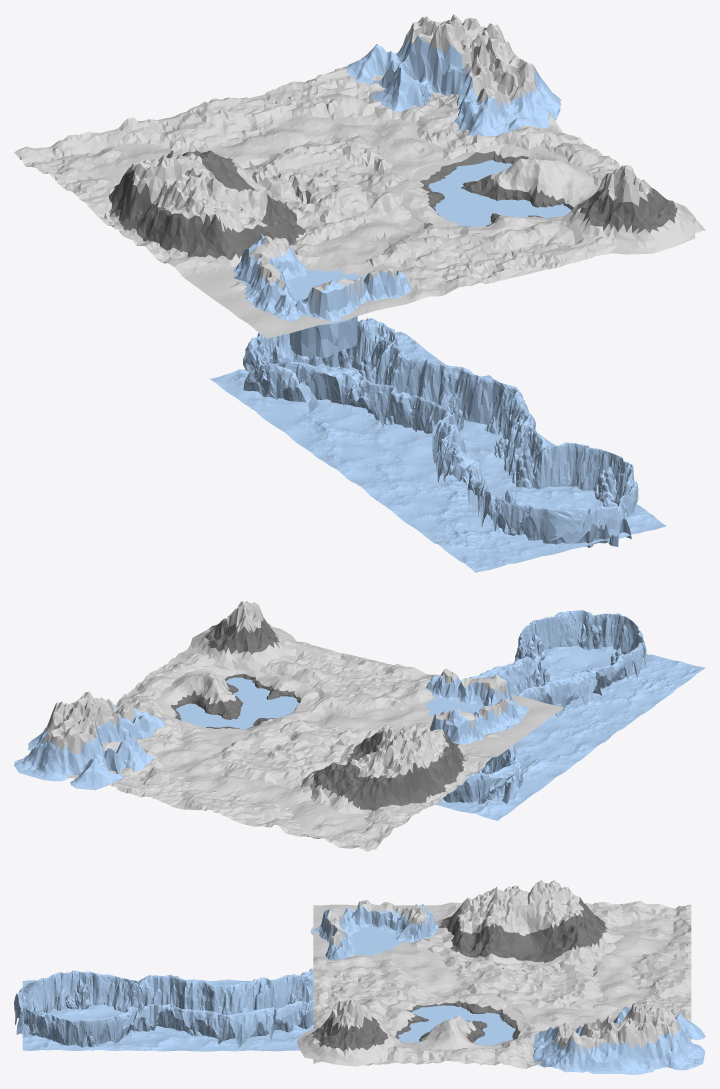
The model's file is Land.fbx.
The picture shows the model from 3 angles, top to bottom: view 1: azimuth 30°, elevation 25°; view 2: azimuth 150°, elevation 25°; view 3: azimuth 270°, elevation 25°; orthographic projection. The views are drawn at different scales.
Visible parts, largest first — view 1: Landscape, IceCave, IceLandscape, IcePlatform01; view 2: Landscape, IceLandscape, IceCave; view 3: Landscape, IceCave, IceLandscape, IcePlatform.
Boxes of the visible parts, x1,y1,x2,y2 form: Landscape: (14,14,705,338); IceCave: (243,318,638,547); IceLandscape: (210,331,666,572); IcePlatform01: (289,316,357,357); Landscape: (14,601,564,851); IceLandscape: (435,645,705,820); IceCave: (443,610,646,804); Landscape: (297,880,705,1074); IceCave: (14,968,313,1050); IceLandscape: (22,979,313,1051); IcePlatform: (354,929,396,950).
Size of the model in its own units: 11308 by 3883 by 19322.
